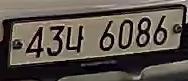0: (117, 16, 136, 51)
3: (46, 23, 65, 58)
4: (23, 24, 46, 60)
6: (97, 19, 117, 53), (152, 12, 170, 47)
8: (135, 15, 152, 48)
나: (65, 23, 86, 55)
